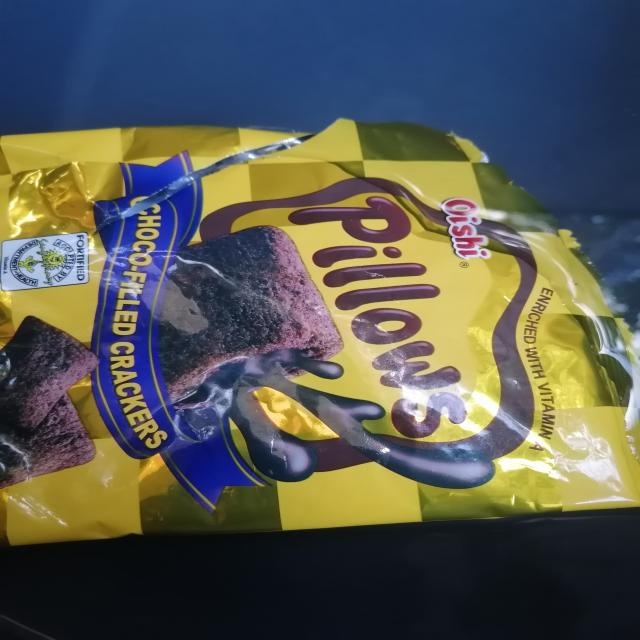Plastic Wrapper: (0, 120, 640, 544)
